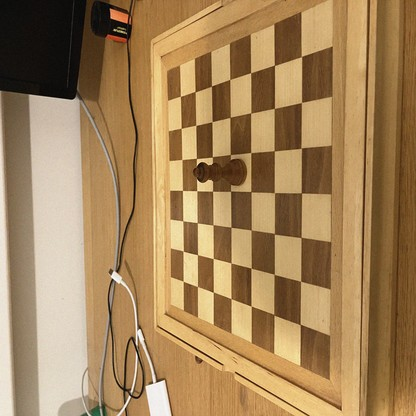queen_black: (193, 159, 247, 187)
